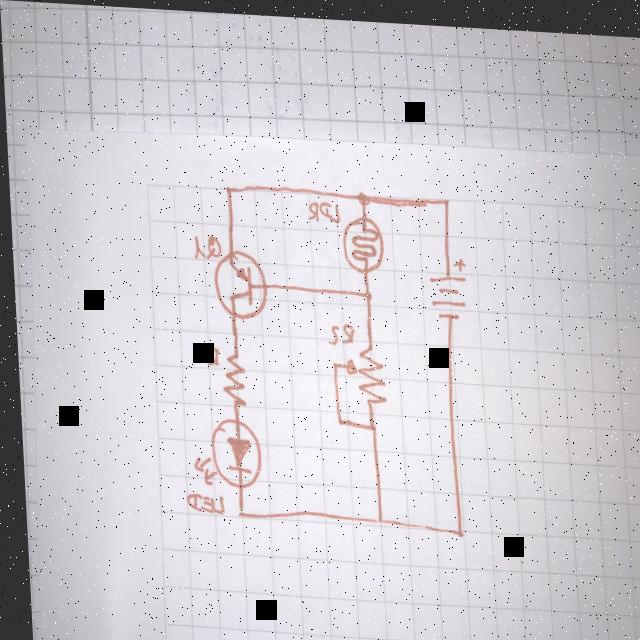diode: (186, 413, 260, 488)
junction: (446, 519, 463, 538), (366, 506, 383, 525), (219, 181, 236, 200), (353, 183, 370, 202), (437, 188, 454, 207), (356, 281, 373, 300), (330, 408, 347, 427), (323, 354, 340, 373), (228, 500, 245, 518), (360, 413, 377, 431)
resistor: (336, 335, 387, 407), (338, 208, 385, 271), (217, 346, 245, 409)
source: (425, 250, 469, 319)
text: (180, 488, 221, 516), (306, 191, 341, 221), (190, 228, 220, 262), (191, 337, 218, 365), (324, 318, 353, 343)
transistor: (210, 243, 268, 320)
